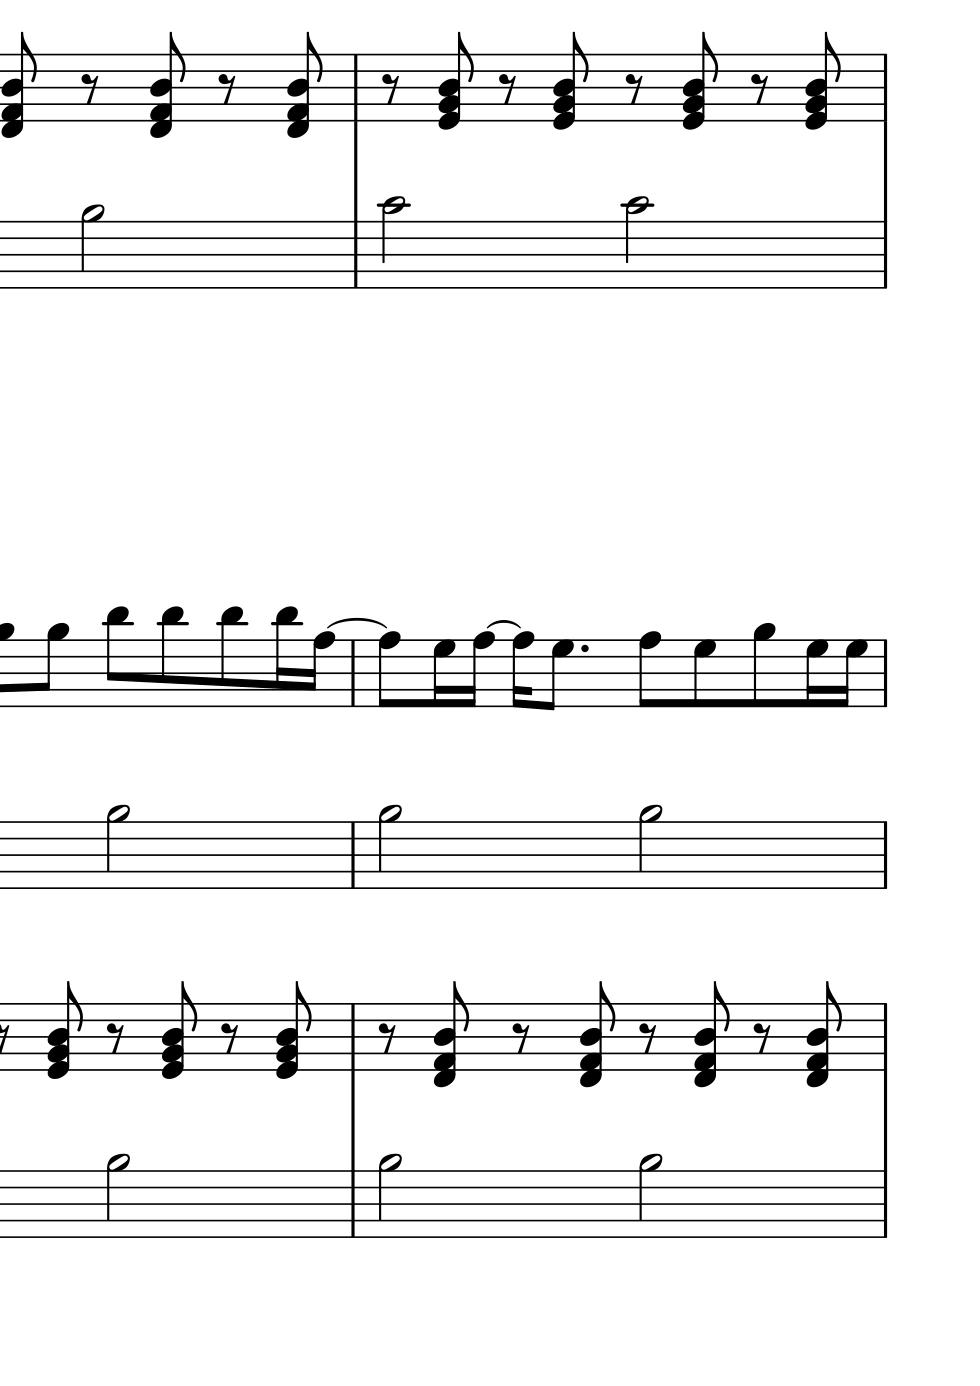16_11: (270, 604, 299, 710)
16_7: (836, 637, 868, 710), (431, 638, 456, 710), (804, 637, 828, 710)
16_8: (304, 630, 336, 708), (463, 630, 495, 708), (510, 630, 533, 709)
2_10: (622, 194, 653, 293), (378, 194, 408, 293)
2_9: (80, 203, 107, 292), (636, 803, 664, 892), (104, 803, 132, 891), (377, 804, 404, 891), (377, 1153, 404, 1240), (105, 1152, 132, 1241), (637, 1152, 664, 1241)
8_11: (157, 603, 186, 709), (103, 604, 132, 709), (217, 606, 246, 708)
8_7: (542, 638, 574, 712), (692, 637, 717, 709)
8_8: (377, 630, 402, 709), (637, 630, 662, 709)
8_9: (37, 621, 70, 709), (750, 622, 775, 709)
8_th: (802, 980, 847, 1090), (282, 34, 329, 141), (692, 977, 734, 1092), (1, 30, 43, 141), (800, 33, 846, 134), (145, 34, 188, 142), (431, 977, 471, 1090), (434, 32, 479, 130), (575, 984, 616, 1092), (272, 980, 315, 1080), (549, 37, 594, 134), (43, 978, 85, 1082), (158, 978, 199, 1081), (678, 38, 719, 133)
Rests8: (750, 1020, 774, 1056), (495, 71, 519, 107), (622, 71, 645, 107), (104, 1020, 127, 1056), (636, 1020, 659, 1057), (748, 71, 771, 106), (509, 1021, 532, 1056), (377, 1020, 399, 1056), (215, 71, 238, 106), (379, 71, 401, 106), (218, 1021, 241, 1056), (78, 71, 101, 105)
Single_barline: (346, 55, 365, 121), (875, 222, 894, 287), (343, 1004, 362, 1069), (347, 221, 365, 288), (345, 641, 363, 707), (875, 55, 893, 121), (876, 641, 894, 706), (344, 1171, 362, 1236), (876, 1003, 893, 1070), (876, 822, 893, 888), (876, 1171, 893, 1236), (345, 822, 362, 887)
Slur: (329, 617, 387, 629), (485, 619, 522, 630)
dot: (578, 642, 590, 655)
